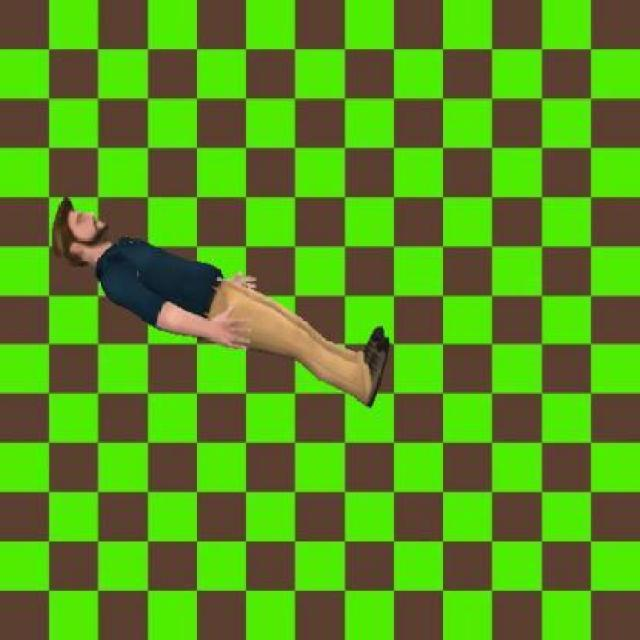Person: (49, 194, 394, 411)
